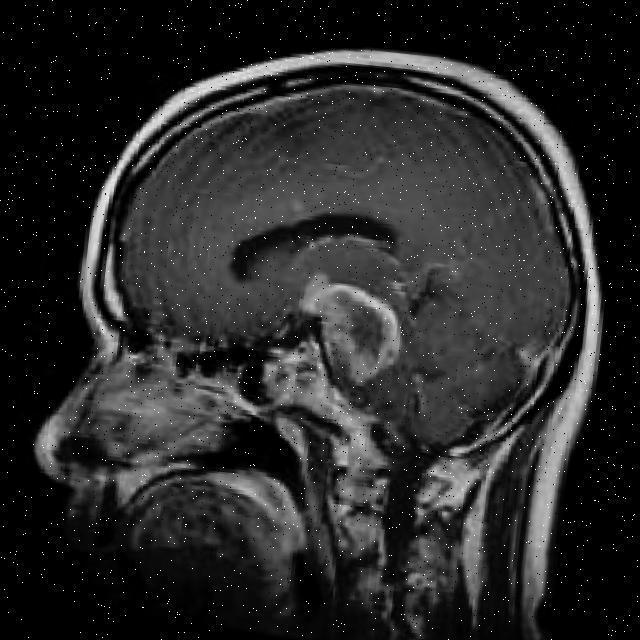LMCI: (268, 238, 424, 389)
